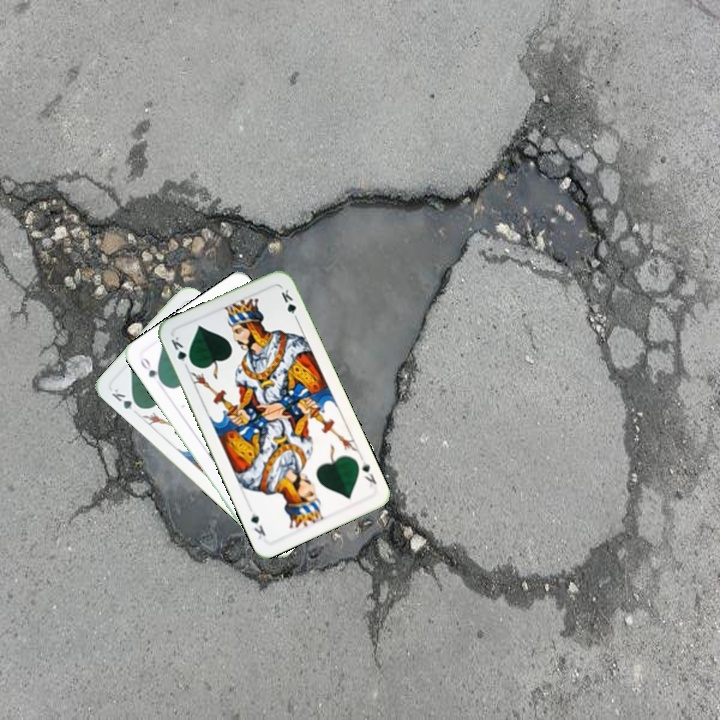GK: (167, 332, 195, 371), (107, 385, 144, 413), (357, 454, 379, 489)
GO: (136, 353, 166, 387)
